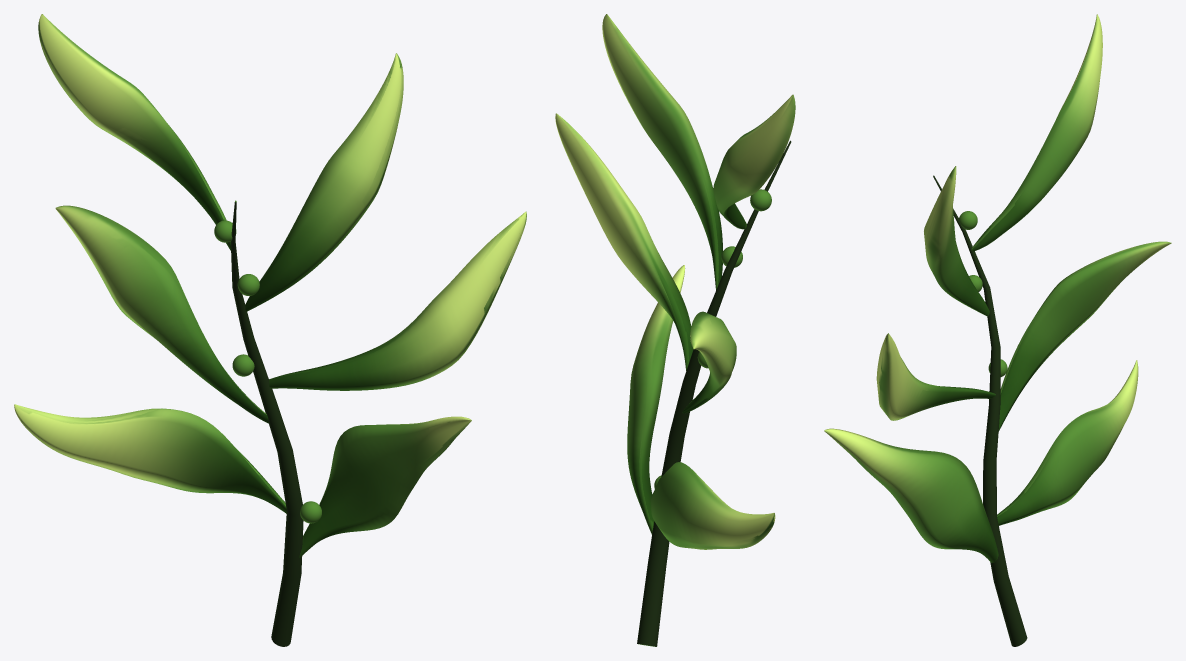
The model's file is Seaweed.gltf.
The picture shows the model from 3 angles, left to right: view 1: azimuth 30°, elevation 25°; view 2: azimuth 150°, elevation 25°; view 3: azimuth 270°, elevation 25°; orthographic projection. The views are drawn at different scales.
Visible parts, largest first — view 1: BezierCurve; view 2: BezierCurve; view 3: BezierCurve.
Boxes of the visible parts, x1=… form: BezierCurve: x1=14, y1=14, x2=526, y2=646; BezierCurve: x1=555, y1=14, x2=795, y2=646; BezierCurve: x1=824, y1=14, x2=1171, y2=646.
Bounding box in the file's own units: 1.96 × 3.27 × 1.88.
Materials: 1 (1 with a texture image).
